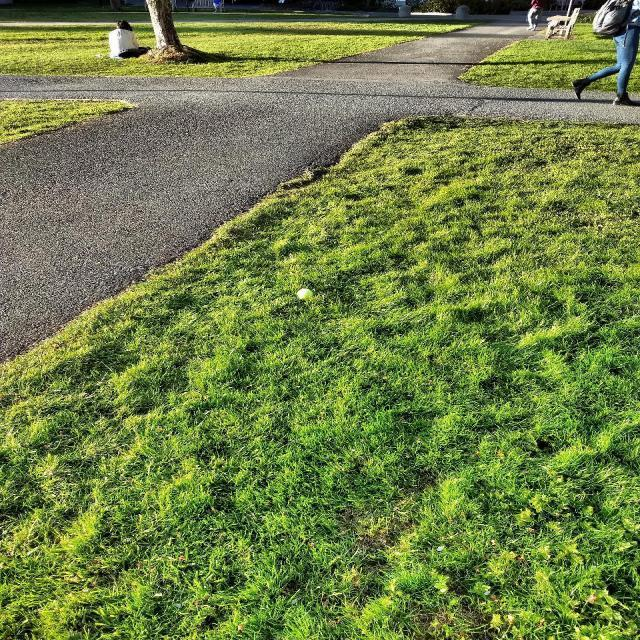tennis-ball: (294, 288, 314, 303)
